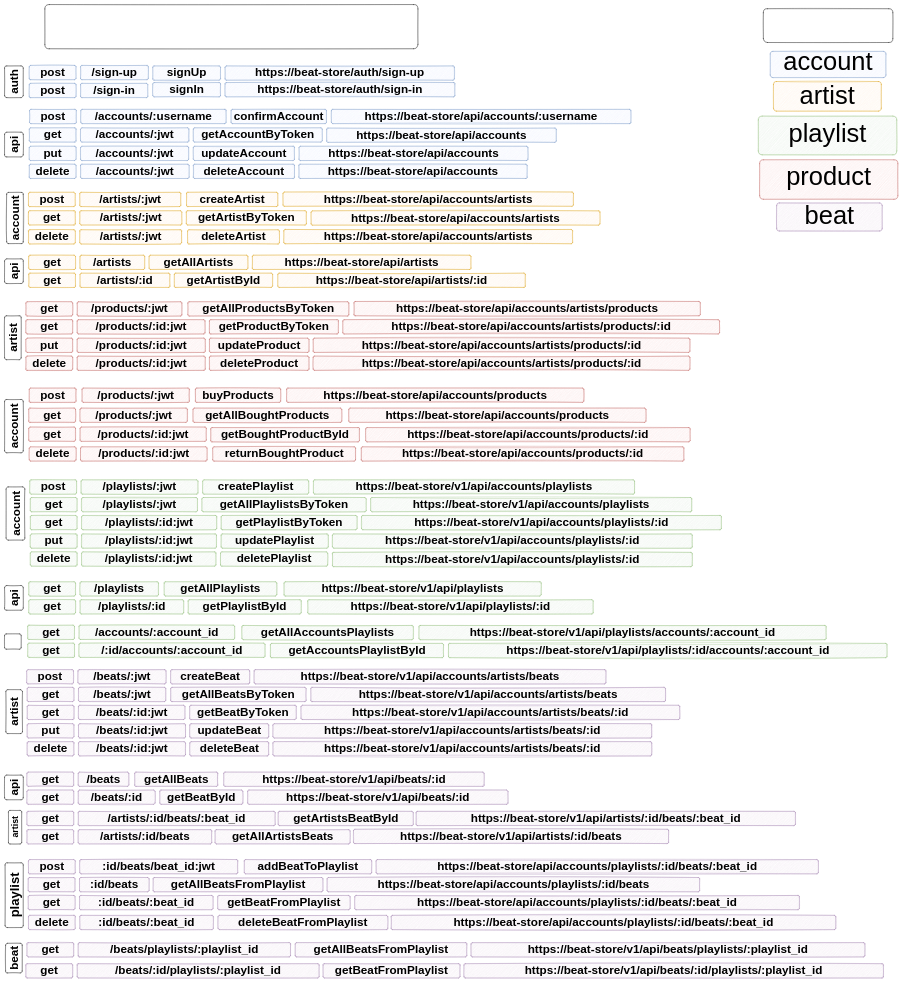
The diagram is 902 pixels wide and 983 high, and some of its shapes have lost their labels. The centre of each missing label's shape, as x and y in pixels:
BEAT STORE API: (x=231, y=26)
entities: (x=828, y=25)
pl: (x=12, y=641)
